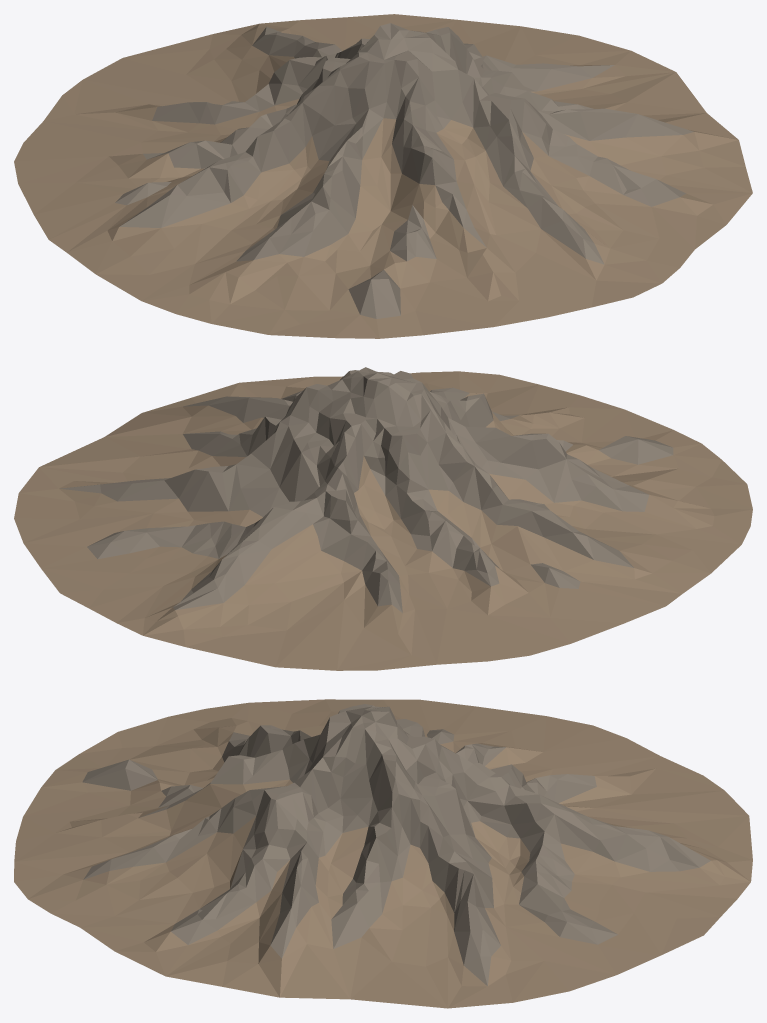
Rendered from SM_Env_Mountain_01.fbx.
3 views of the same model, one above another, from view 1: azimuth 30°, elevation 25°; view 2: azimuth 150°, elevation 25°; view 3: azimuth 270°, elevation 25° (orthographic). The views are drawn at different scales.
Visible parts, largest first — view 1: SM_Env_Mountain_01; view 2: SM_Env_Mountain_01; view 3: SM_Env_Mountain_01.
Boxes of the visible parts, x1,y1,x2,y2 form: SM_Env_Mountain_01: [14, 14, 752, 338]; SM_Env_Mountain_01: [14, 367, 752, 670]; SM_Env_Mountain_01: [14, 699, 752, 1008].
Size of the model in its own units: 6371 by 1397 by 6438.
